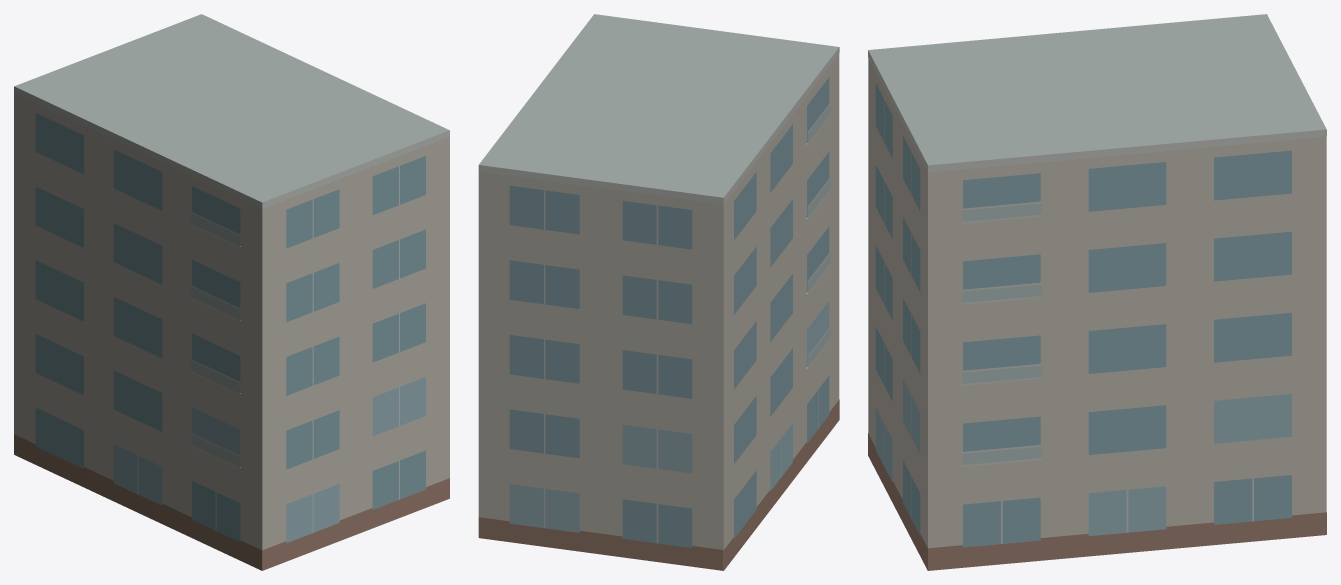
File: survey-upis-32859686.glb
3 renders of one model, left to right at view 1: azimuth 30°, elevation 25°; view 2: azimuth 150°, elevation 25°; view 3: azimuth 270°, elevation 25°, orthographic. The views are drawn at different scales.
Visible parts, largest first — view 1: survey-upis-32859686.tmp; view 2: survey-upis-32859686.tmp; view 3: survey-upis-32859686.tmp.
Part boxes in pixels (x1,y1,x2,y2): survey-upis-32859686.tmp: (14,14,449,570); survey-upis-32859686.tmp: (478,14,839,570); survey-upis-32859686.tmp: (868,14,1326,570).
Bounding box in the file's own units: 11.22 × 14 × 14.36.
